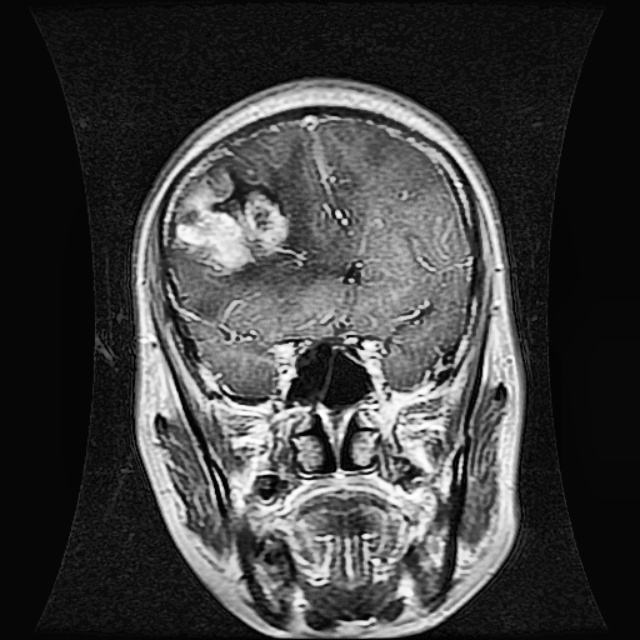Meningioma: (173, 159, 295, 277)
